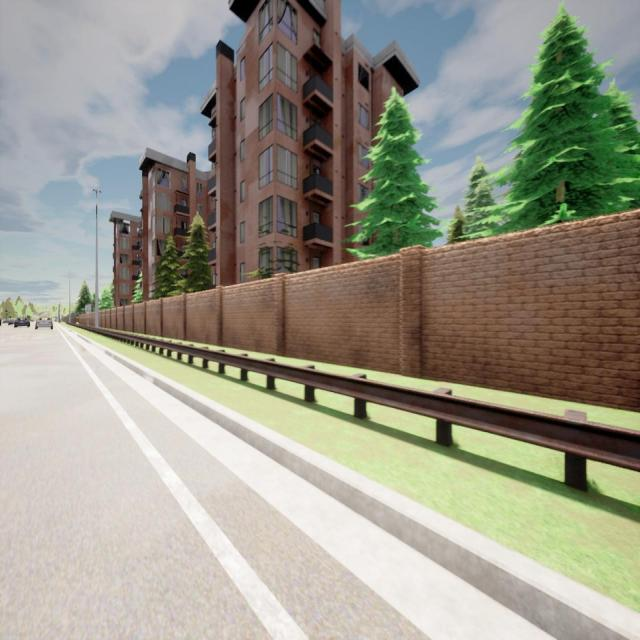Traffic_Signs: (85, 304, 91, 314)
Vehicle: (35, 317, 53, 329), (14, 317, 30, 327), (8, 318, 14, 325)
